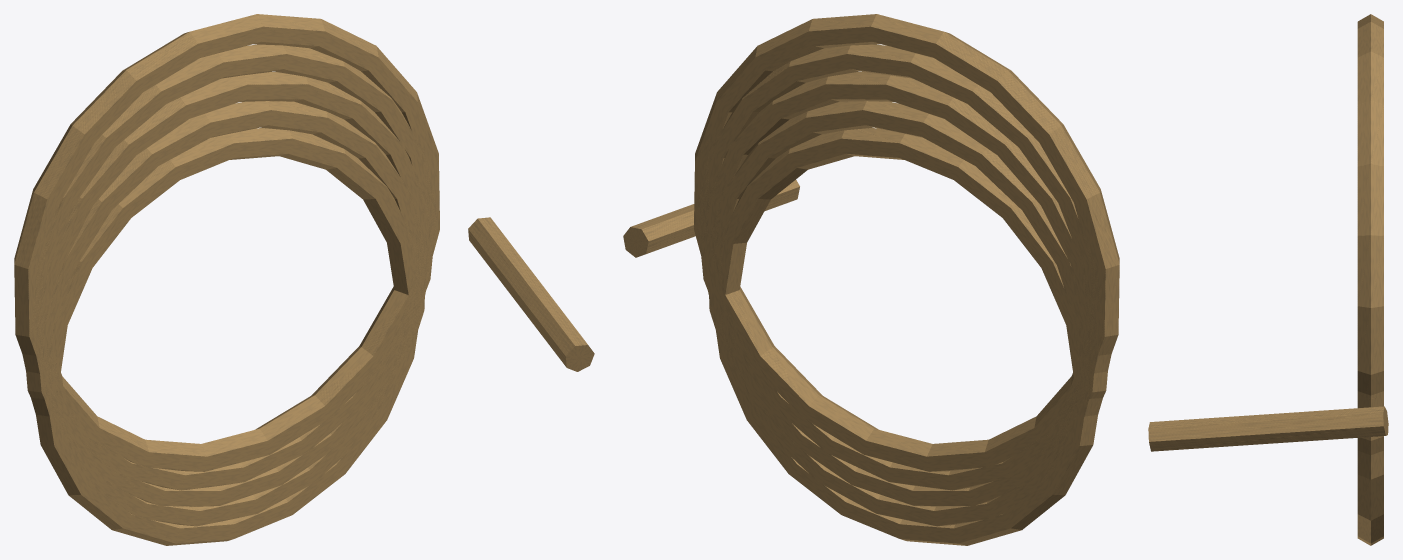
File: pr-002_rope_coil__carried.obj
3 views of the same model, side by side, from view 1: azimuth 30°, elevation 25°; view 2: azimuth 150°, elevation 25°; view 3: azimuth 270°, elevation 25° (orthographic). The views are drawn at different scales.
Parts seen in each view (by area): view 1: pr-002_rope_coil__carried; view 2: pr-002_rope_coil__carried; view 3: pr-002_rope_coil__carried.
Part boxes in pixels (x1,y1,x2,y2): pr-002_rope_coil__carried: (14, 14, 594, 545); pr-002_rope_coil__carried: (623, 14, 1119, 545); pr-002_rope_coil__carried: (1148, 14, 1388, 545).
Size of the model in its own units: 0.6246 by 0.6337 by 0.2816.
1 material, 1 textured.
